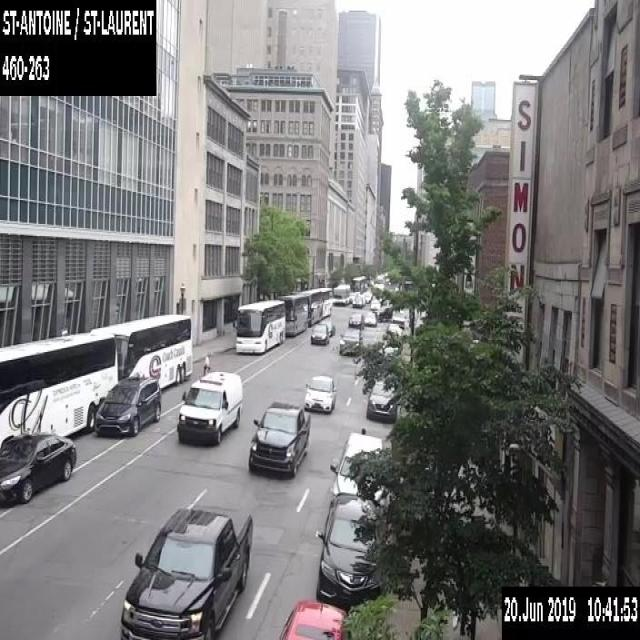bus: (0, 331, 117, 449), (90, 313, 192, 389), (232, 299, 285, 351), (276, 293, 308, 334), (292, 290, 320, 325), (310, 286, 331, 318), (332, 283, 349, 304), (351, 276, 363, 292), (357, 275, 366, 290)
pedestrian: (450, 608, 477, 639), (202, 351, 210, 375)
vehicle: (117, 502, 253, 638), (314, 490, 389, 610), (0, 432, 76, 502), (176, 370, 242, 445), (248, 400, 310, 476), (329, 431, 385, 506), (94, 375, 161, 436), (277, 598, 349, 639), (366, 377, 397, 420), (303, 375, 336, 412), (338, 326, 362, 355), (310, 322, 328, 343), (377, 306, 399, 321), (378, 340, 397, 356), (320, 318, 334, 336), (348, 312, 363, 328), (364, 312, 376, 325), (391, 309, 404, 321), (392, 317, 404, 329), (352, 295, 362, 307), (370, 299, 380, 308), (356, 293, 364, 304), (362, 292, 370, 302), (348, 292, 356, 301), (354, 290, 359, 296)
